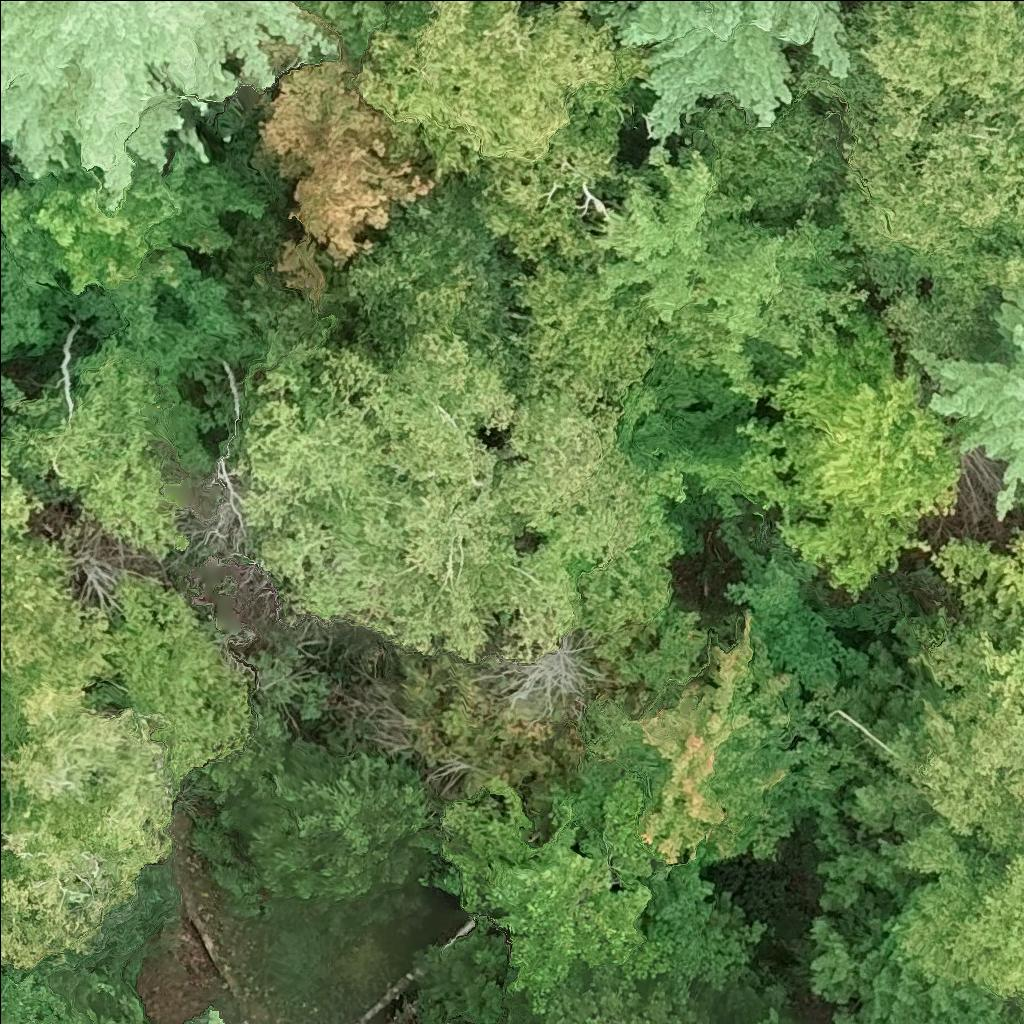crown: (241, 330, 600, 657), (0, 580, 255, 968), (420, 753, 766, 1014), (353, 0, 658, 265), (803, 0, 1023, 353), (587, 603, 877, 867), (734, 288, 975, 596), (506, 254, 687, 636), (593, 151, 865, 396), (196, 648, 449, 907), (0, 0, 330, 192), (253, 56, 444, 292), (857, 593, 1023, 847), (0, 139, 262, 294), (811, 834, 1023, 1023), (346, 165, 521, 387), (2, 357, 185, 553), (597, 0, 842, 145), (0, 503, 129, 713), (718, 519, 871, 695), (879, 818, 1023, 1000), (919, 289, 1023, 518), (933, 538, 1023, 714), (0, 951, 148, 1023), (477, 629, 593, 719), (289, 0, 393, 64), (432, 751, 490, 790), (0, 452, 28, 522), (203, 1019, 214, 1023)
